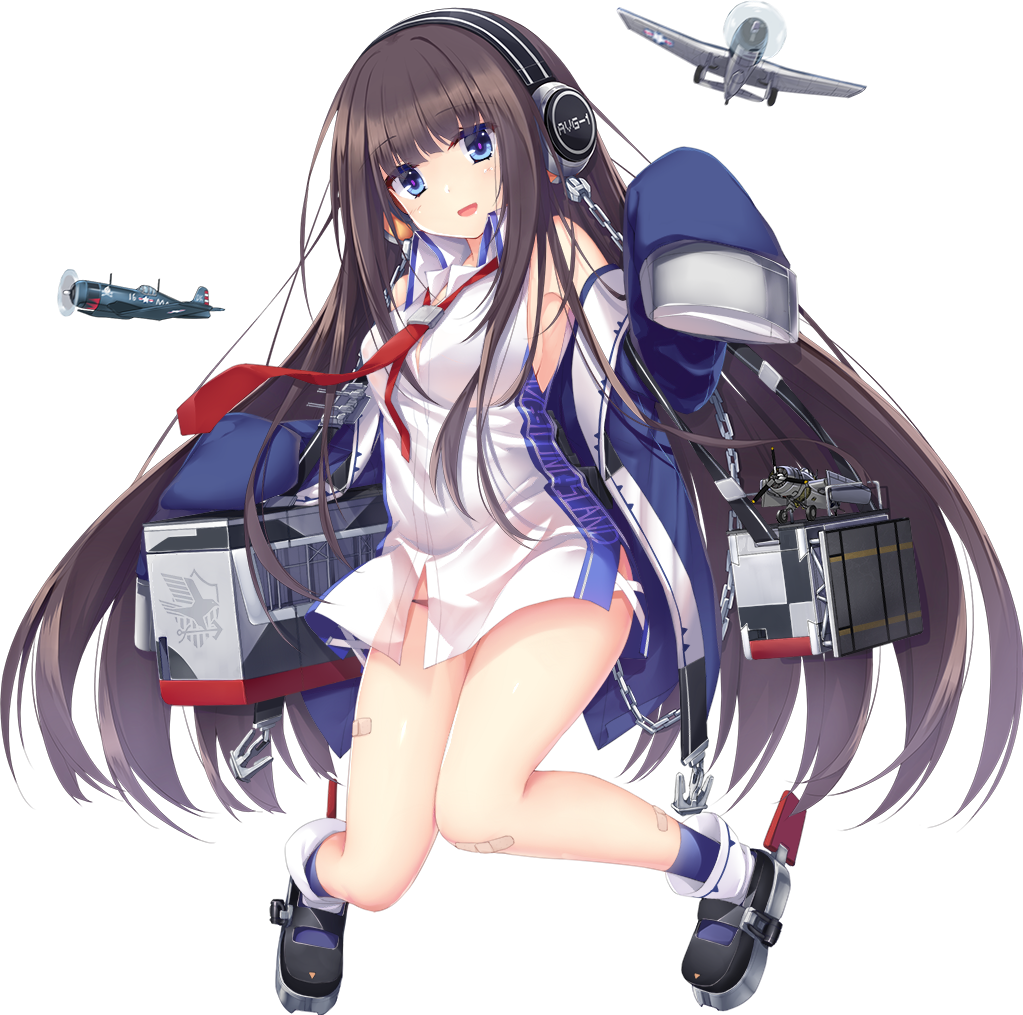person: (82, 7, 817, 1015)
